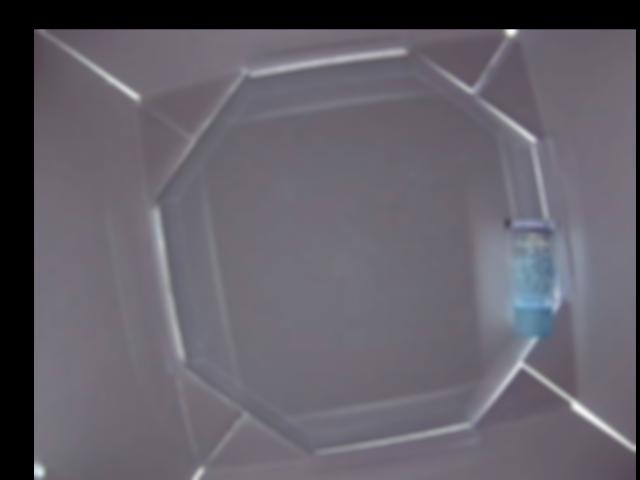Bottle: (509, 217, 558, 338)
